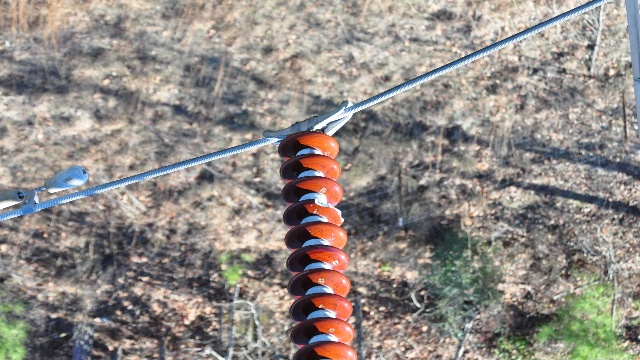broken_local: (313, 198, 346, 223)
insulator_unspecified: (279, 132, 358, 359)
